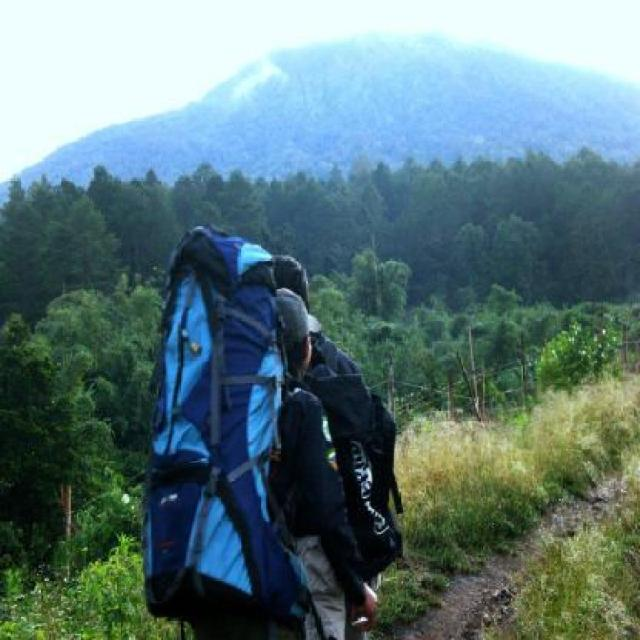backpack: (140, 226, 289, 626)
